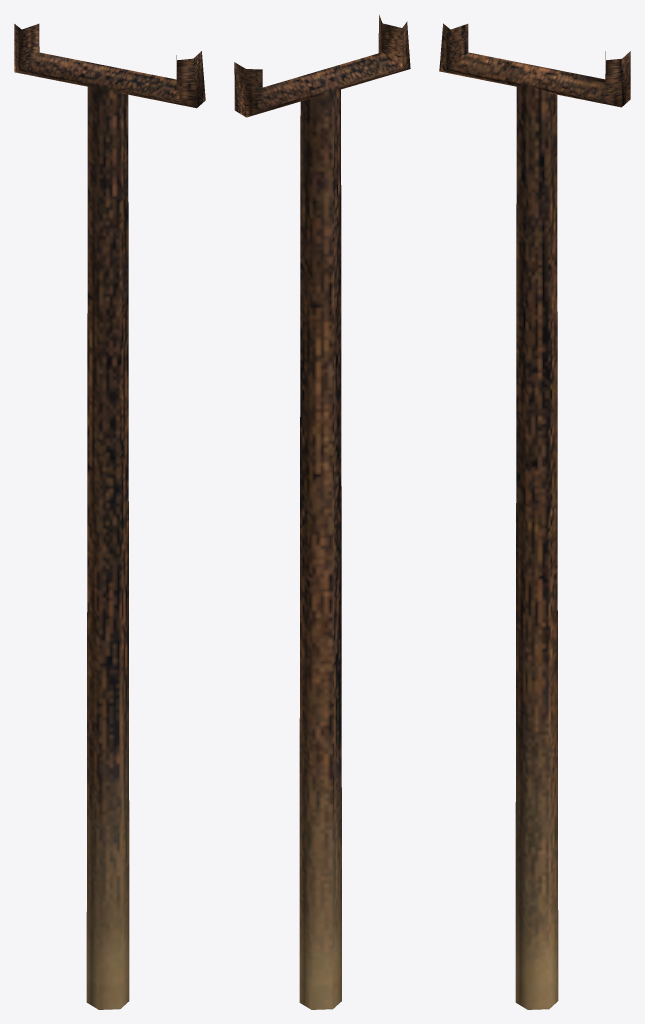
The model's file is M5A_Telepole.glb.
3 renders of one model, left to right at view 1: azimuth 90°, elevation 25°; view 2: azimuth 150°, elevation 25°; view 3: azimuth 270°, elevation 25°, orthographic.
Visible parts, largest first — view 1: M5A_TELEPOLE; view 2: M5A_TELEPOLE; view 3: M5A_TELEPOLE.
Part boxes in pixels (box(x1,y1,x2,y2)): M5A_TELEPOLE: box(14, 23, 205, 1009); M5A_TELEPOLE: box(234, 14, 410, 1009); M5A_TELEPOLE: box(439, 23, 630, 1009).
Bounding box in the file's own units: 0.536 × 5.22 × 0.938.
1 material, 1 textured.
